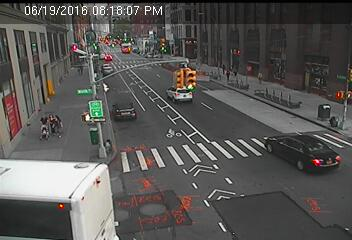neg: (141, 49, 157, 71), (116, 47, 130, 65), (86, 35, 98, 51), (171, 78, 182, 93), (196, 47, 206, 61)
pos: (32, 110, 52, 138), (48, 113, 66, 137), (253, 69, 266, 86), (76, 62, 88, 78), (224, 66, 236, 82)
